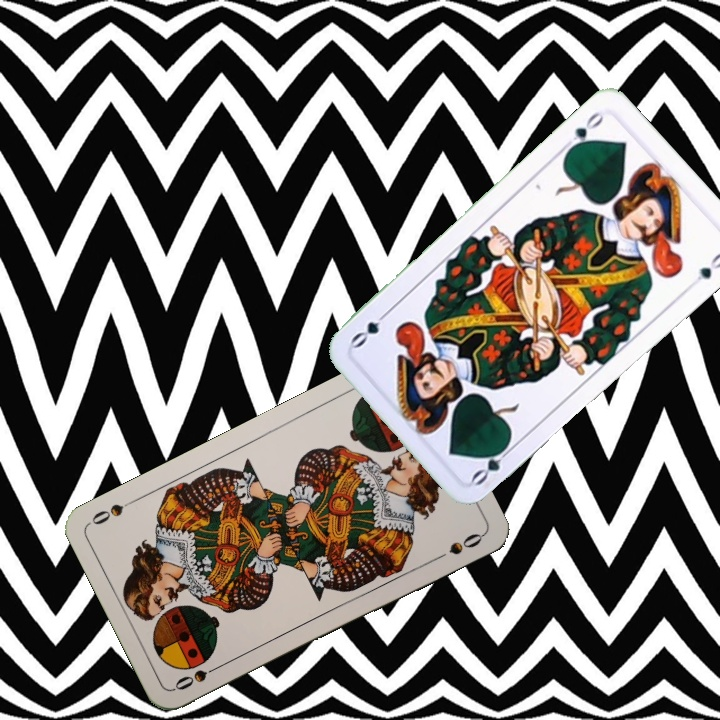GO: (467, 438, 517, 488), (558, 107, 607, 156)
SO: (170, 659, 226, 693)
